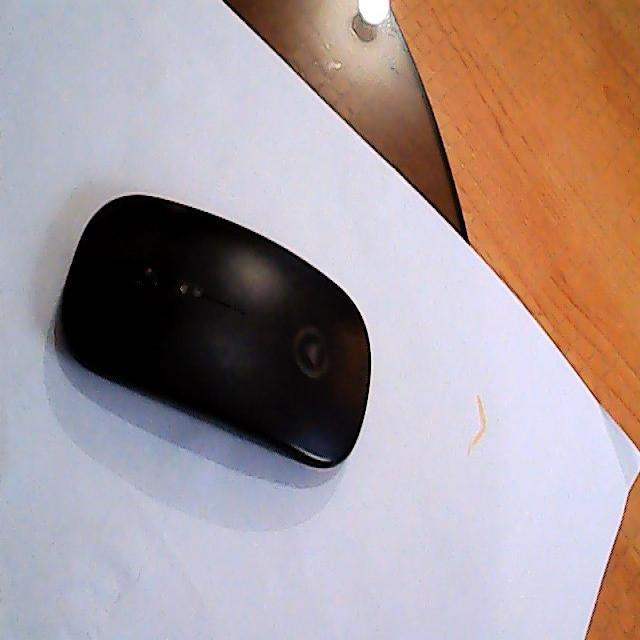Mouse: (56, 191, 374, 472)
